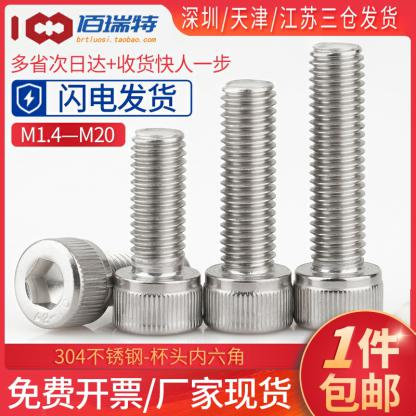FOD: (293, 38, 385, 328), (202, 76, 294, 336), (108, 126, 204, 334), (13, 235, 132, 329)
